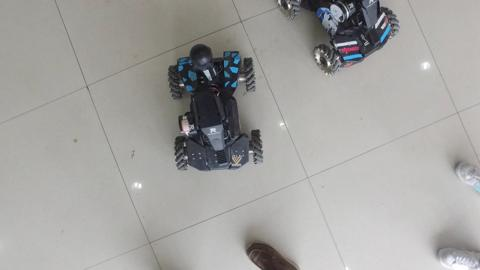chariot: (159, 40, 268, 179), (271, 1, 409, 86)
